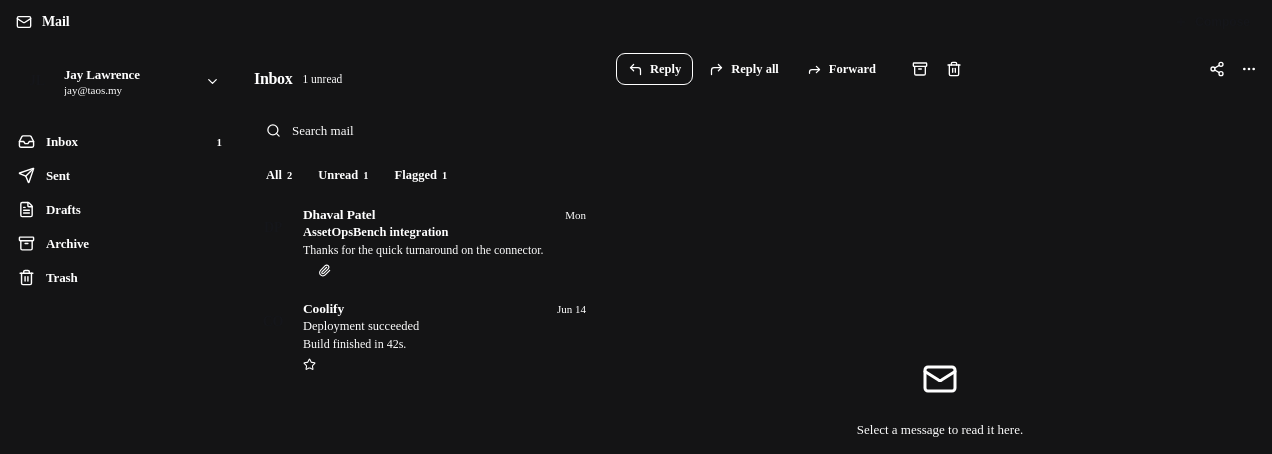
MailApp › opens a message into the reading pane
The width and height of the screenshot is (1272, 454).
Click the text "AssetOpsBench integration". click: (376, 232)
box: top-left (303, 224), bottom-right (448, 238)
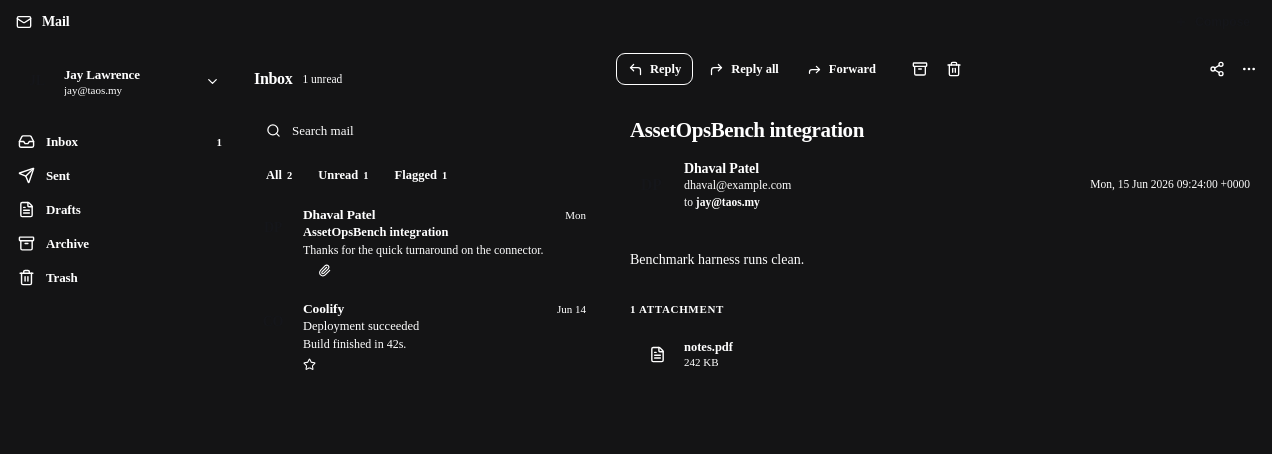
Result: the text "Benchmark harness runs clean." is shown at top-left (630, 252), bottom-right (804, 267)
Result: the text "notes.pdf" is shown at top-left (684, 340), bottom-right (733, 355)
